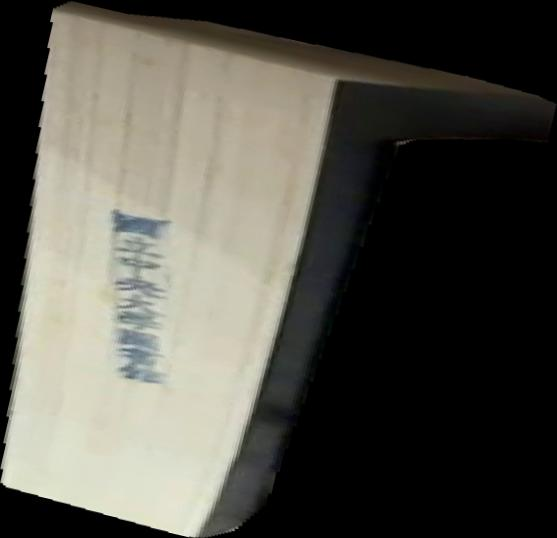backward: (1, 1, 557, 538)
